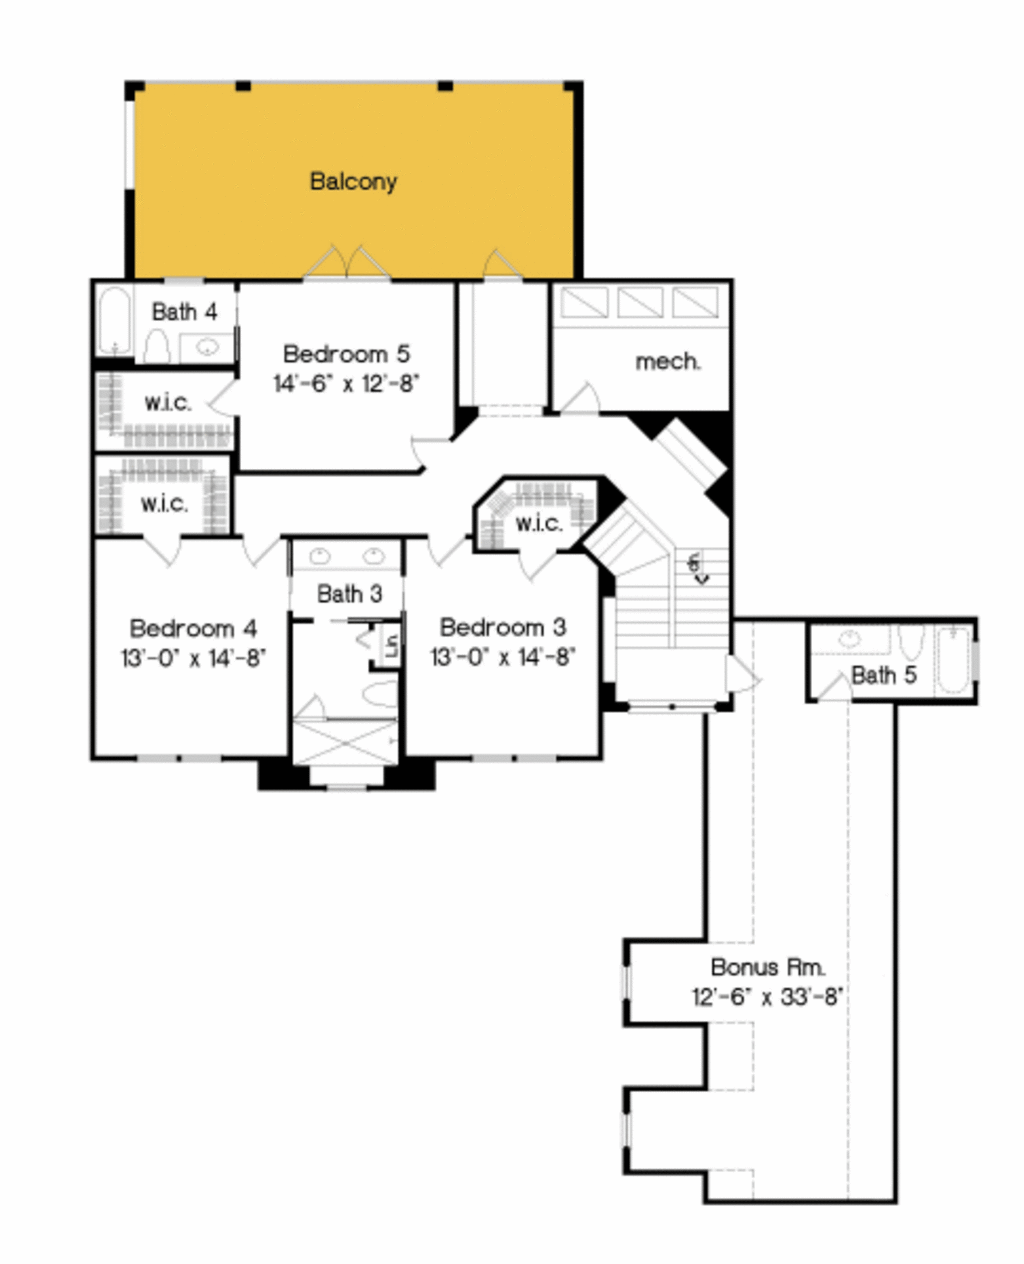door: (296, 243, 396, 292), (475, 245, 531, 289), (404, 426, 453, 468), (422, 528, 467, 570), (135, 531, 186, 566), (207, 377, 245, 423), (237, 533, 280, 570), (555, 383, 601, 418), (511, 551, 554, 585)
large_sink: (141, 325, 185, 377), (894, 618, 933, 665), (355, 673, 398, 713)
small_sink: (287, 541, 403, 578), (807, 626, 893, 661), (176, 330, 238, 366)
stairs: (590, 504, 734, 715)
tub: (92, 279, 140, 364), (935, 621, 975, 703)
window: (619, 1104, 636, 1155), (622, 959, 638, 1009)
